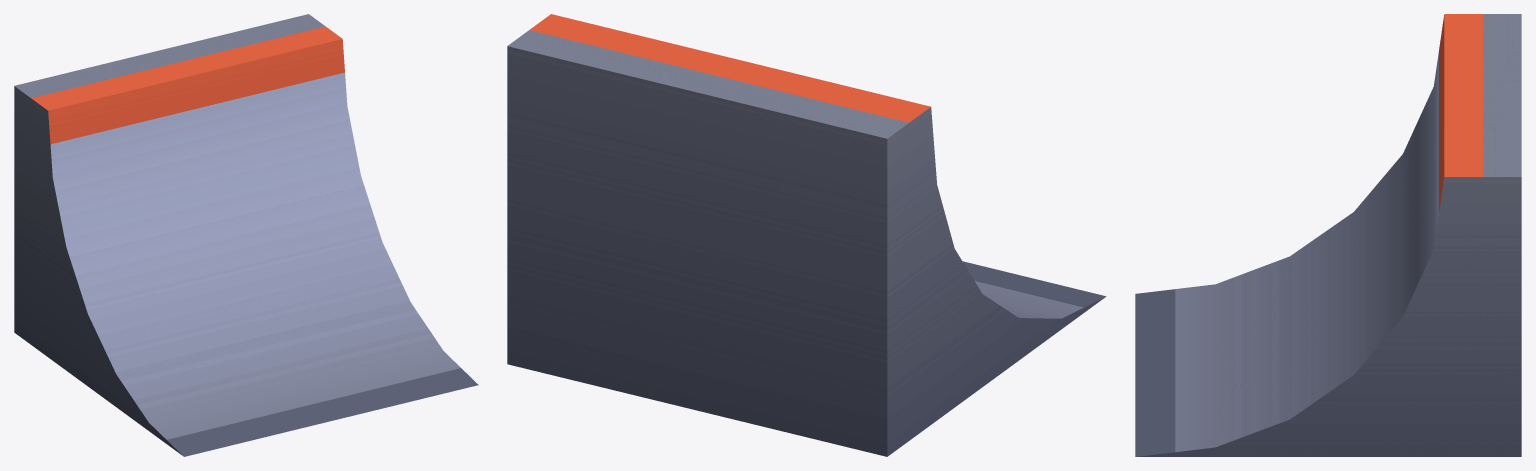
The model's file is bowl-side.glb.
3 views of the same model, side by side, from view 1: azimuth 30°, elevation 25°; view 2: azimuth 150°, elevation 25°; view 3: azimuth 270°, elevation 25° (orthographic). The views are drawn at different scales.
Visible parts, largest first — view 1: bowl-side; view 2: bowl-side; view 3: bowl-side.
Boxes of the visible parts, x1=… form: bowl-side: x1=14, y1=14, x2=478, y2=456; bowl-side: x1=507, y1=14, x2=1106, y2=456; bowl-side: x1=1135, y1=14, x2=1521, y2=456.
Size of the model in its own units: 3 by 2.4 by 3.
1 material, 1 textured.
